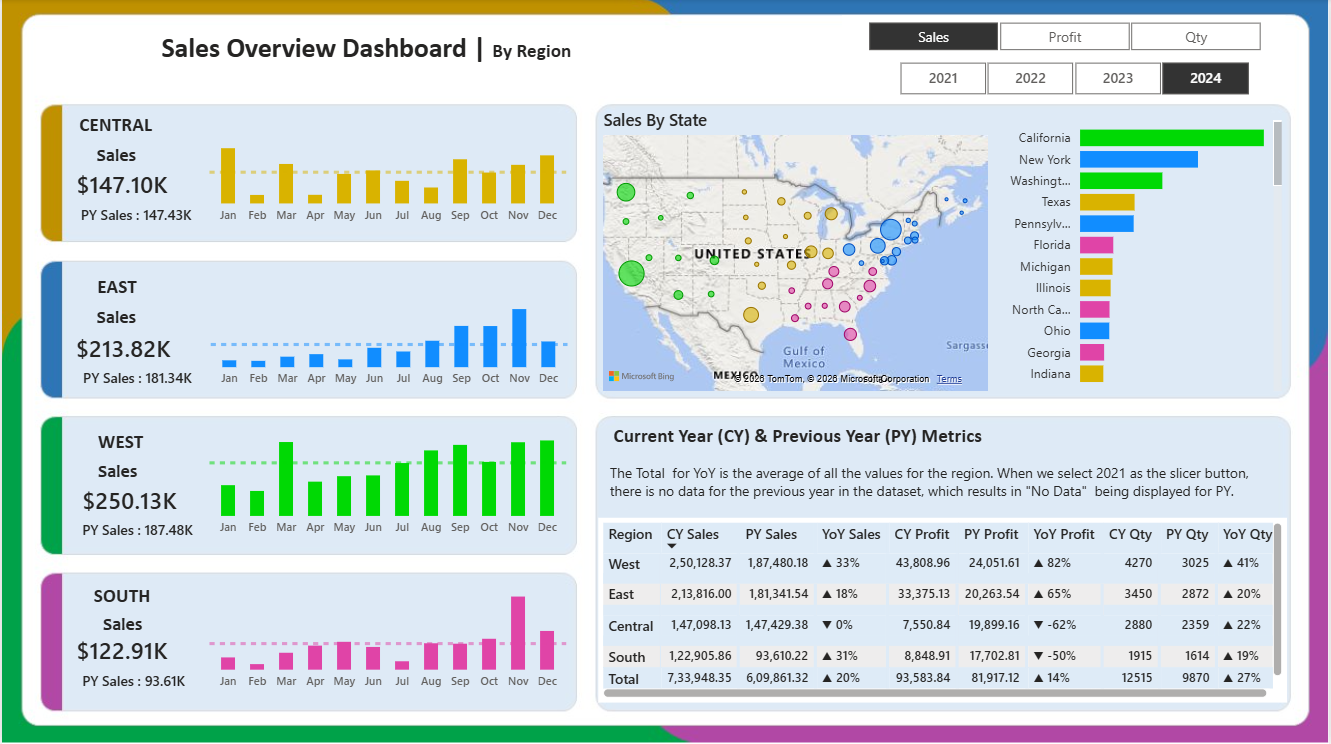

The dashboard page shown, as its layout file describes it:
{"tool":"powerbi","page":{"name":"Page 1","canvas":[1280,720],"ordinal":0},"visuals":[{"type":"slicer","fields":{"Values":["Select Metric.Select Metric"]},"box":[810.7,15.7,428.3,38.6],"z":0},{"type":"card","fields":{"Values":["Sales Data.Total Sales"]},"box":[64.3,165.7,104.3,30],"z":1000},{"type":"textbox","box":[63.9,105,91.7,32.6],"z":2000},{"type":"slicer","fields":{"Values":["Calendar Table.Year"]},"box":[840.9,54.3,386.1,44.6],"z":3000},{"type":"card","fields":{"Values":["Sales Data.Dynamic Title"]},"box":[74.3,137.1,71.4,28.6],"z":4000},{"type":"card","fields":{"Values":["Sales Data.PY KPI Sales"]},"box":[64.3,195.7,131.4,30],"z":5000},{"type":"clusteredColumnChart","fields":{"Y":["Sales Data.Total Sales"],"Category":["Calendar Table.Month"]},"box":[195.7,110,354.3,115.7],"z":6000},{"type":"textbox","box":[64.3,25.7,575.7,57.1],"z":7000},{"type":"card","fields":{"Values":["Sales Data.Total Sales"]},"box":[65.1,323.1,104.3,30],"z":8000},{"type":"card","fields":{"Values":["Sales Data.Dynamic Title"]},"box":[75.1,294.6,71.4,28.6],"z":9000},{"type":"card","fields":{"Values":["Sales Data.PY KPI Sales"]},"box":[65.1,353.1,131.4,30],"z":10000},{"type":"clusteredColumnChart","fields":{"Y":["Sales Data.Total Sales"],"Category":["Calendar Table.Month"]},"box":[196.6,267.4,354.3,115.7],"z":11000},{"type":"card","fields":{"Values":["Sales Data.Total Sales"]},"box":[71.4,470,104.3,30],"z":12000},{"type":"card","fields":{"Values":["Sales Data.Dynamic Title"]},"box":[75.7,442.9,71.4,28.6],"z":13000},{"type":"card","fields":{"Values":["Sales Data.PY KPI Sales"]},"box":[65.7,500,131.4,30],"z":14000},{"type":"clusteredColumnChart","fields":{"Y":["Sales Data.Total Sales"],"Category":["Calendar Table.Month"]},"box":[195.7,411.4,354.3,115.7],"z":15000},{"type":"card","fields":{"Values":["Sales Data.Total Sales"]},"box":[64.3,615.7,104.3,30],"z":16000},{"type":"textbox","box":[64.8,262.4,91.7,32.6],"z":17000},{"type":"card","fields":{"Values":["Sales Data.Dynamic Title"]},"box":[81.4,590,71.4,28.6],"z":18000},{"type":"card","fields":{"Values":["Sales Data.PY KPI Sales"]},"box":[61.4,645.7,131.4,30],"z":19000},{"type":"clusteredColumnChart","fields":{"Y":["Sales Data.Total Sales"],"Category":["Calendar Table.Month"]},"box":[195.7,560,354.3,115.7],"z":20000},{"type":"textbox","box":[83.8,411.2,62.5,37.5],"z":21000},{"type":"textbox","box":[77.5,560,77.5,37.5],"z":22000},{"type":"map","title":"Sales By State","fields":{"Size":["Sales Data.Total Sales"],"Category":["Sales Data.State/Province"],"Series":["Sales Data.Region"]},"box":[575,105,381.2,278.8],"z":23000},{"type":"barChart","fields":{"Y":["Sales Data.Total Sales"],"Category":["Sales Data.State/Province"],"Series":["Sales Data.Region"]},"box":[956.2,105,283.8,278.8],"z":24000},{"type":"pivotTable","fields":{"Rows":["Sales Data.Region"],"Values":["Sales Data.CY Sales","Sales Data.PY Sales","Sales Data.YoY Sales","Sales Data.CY Profit","Sales Data.PY Profit","Sales Data.YoY Profit","Sales Data.CY Qty","Sales Data.PY Qty","Sales Data.YoY Qty"]},"box":[575,501.2,665,178.8],"z":25000},{"type":"textbox","box":[585.1,405.4,396.9,43.4],"z":26001},{"type":"textbox","box":[581.5,442.8,650.3,51.9],"z":26002}]}

Visuals, with their boxes in screenshot pixels (x1, y1, x2, y2), scaled from the page's 1280x720 canvas onto the 1331x744 screenshot:
slicer - Select Metric.Select Metric: 843,16,1288,56
card - Sales Data.Total Sales: 67,171,175,202
textbox: 66,109,162,142
slicer - Calendar Table.Year: 874,56,1276,102
card - Sales Data.Dynamic Title: 77,142,152,171
card - Sales Data.PY KPI Sales: 67,202,203,233
clusteredColumnChart - Sales Data.Total Sales x Calendar Table.Month: 203,114,572,233
textbox: 67,27,666,86
card - Sales Data.Total Sales: 68,334,176,365
card - Sales Data.Dynamic Title: 78,304,152,334
card - Sales Data.PY KPI Sales: 68,365,204,396
clusteredColumnChart - Sales Data.Total Sales x Calendar Table.Month: 204,276,573,396
card - Sales Data.Total Sales: 74,486,183,517
card - Sales Data.Dynamic Title: 79,458,153,487
card - Sales Data.PY KPI Sales: 68,517,205,548
clusteredColumnChart - Sales Data.Total Sales x Calendar Table.Month: 203,425,572,545
card - Sales Data.Total Sales: 67,636,175,667
textbox: 67,271,163,305
card - Sales Data.Dynamic Title: 85,610,159,639
card - Sales Data.PY KPI Sales: 64,667,200,698
clusteredColumnChart - Sales Data.Total Sales x Calendar Table.Month: 203,579,572,698
textbox: 87,425,152,464
textbox: 81,579,161,617
"Sales By State" map: 598,109,994,397
barChart - Sales Data.Total Sales x Sales Data.State/Province: 994,109,1289,397
pivotTable - Sales Data.Region x Sales Data.CY Sales: 598,518,1289,703
textbox: 608,419,1021,464
textbox: 605,458,1281,511
